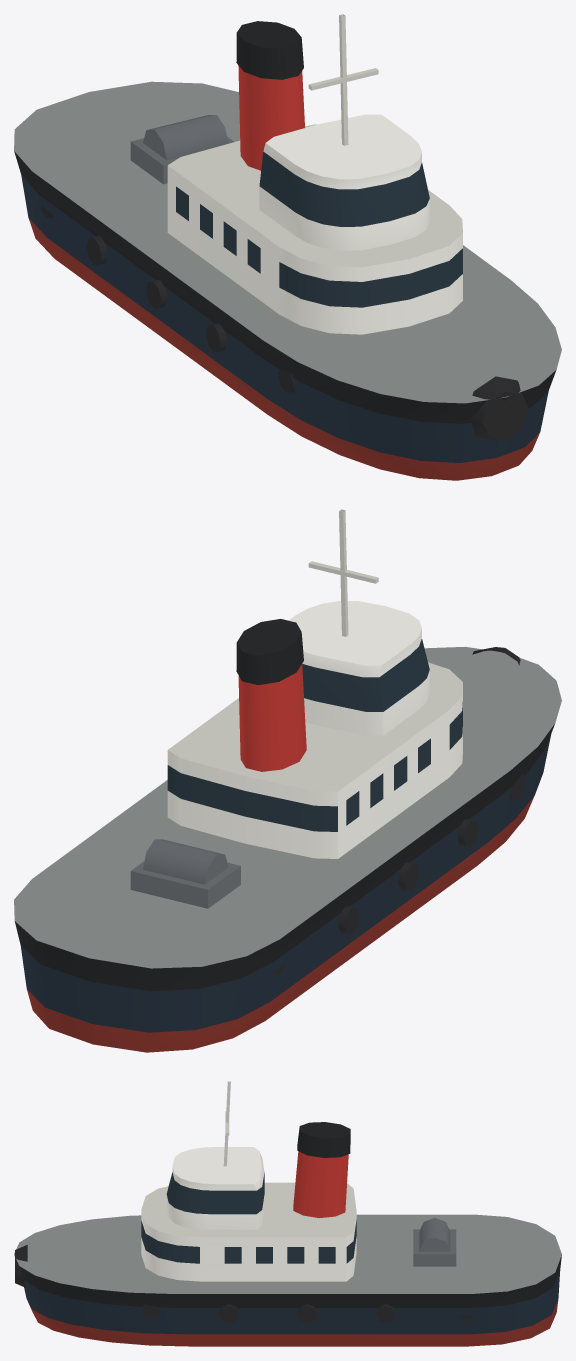
Rendered from sf_tug.glb.
3 renders of one model, top to bottom at view 1: azimuth 30°, elevation 25°; view 2: azimuth 150°, elevation 25°; view 3: azimuth 270°, elevation 25°, orthographic. The views are drawn at different scales.
Visible parts, largest first — view 1: sf_tug; view 2: sf_tug; view 3: sf_tug.
Part boxes in pixels (bbox=[...]): sf_tug: bbox=[14, 14, 561, 480]; sf_tug: bbox=[14, 509, 561, 1052]; sf_tug: bbox=[14, 1081, 561, 1346].
Bounding box in the file's own units: 10 × 13 × 28.
1 material, 1 textured.
